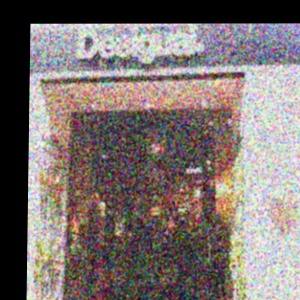desigual: (186, 26, 230, 31)
